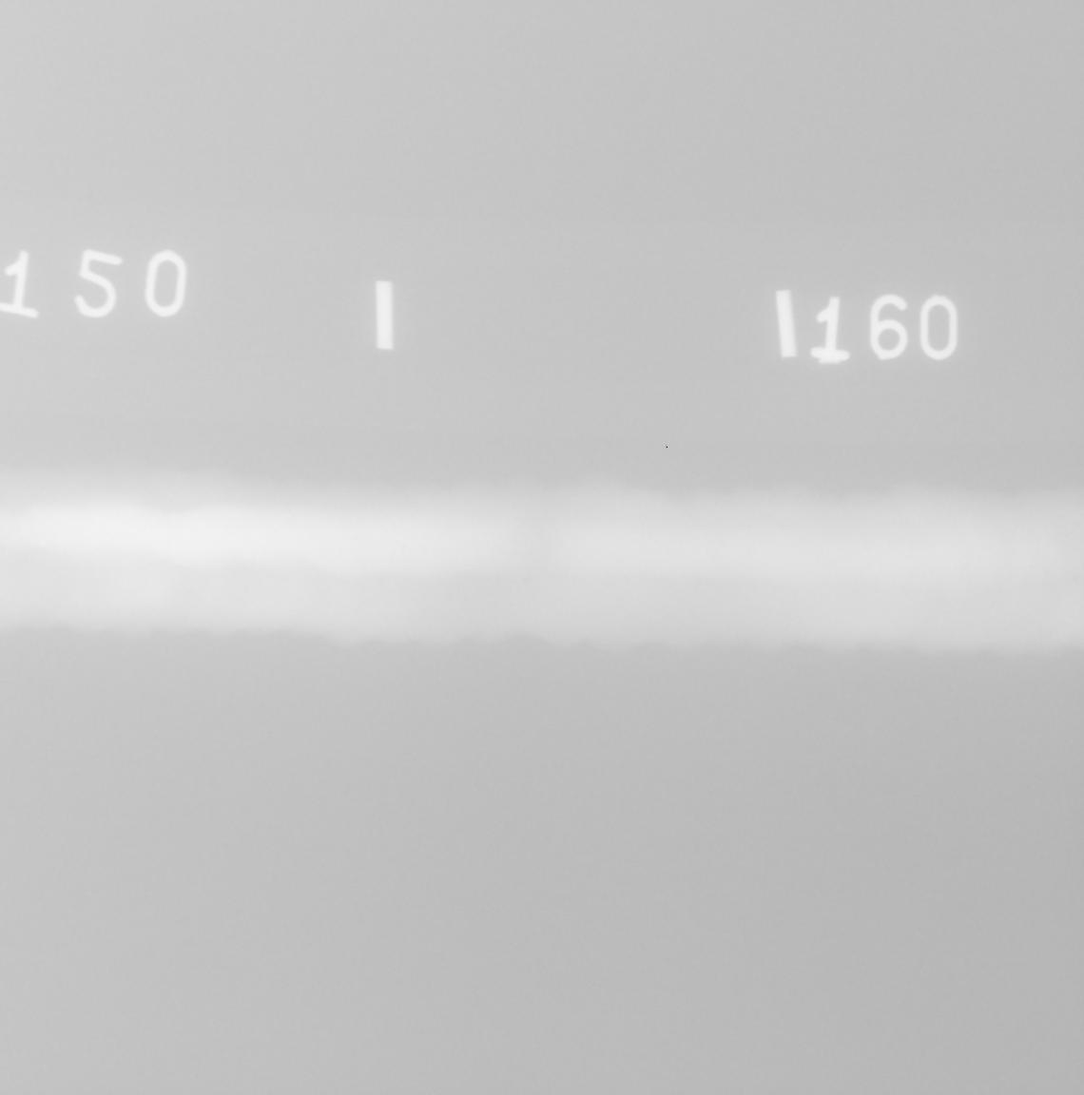Pore/Porosity: (523, 577, 531, 584), (512, 552, 520, 558), (1072, 576, 1078, 583)
